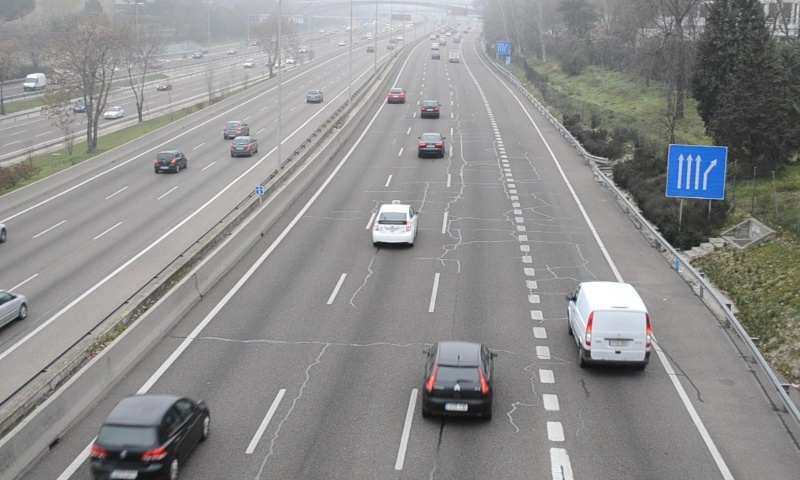car: (88, 396, 209, 480), (423, 340, 494, 417), (374, 203, 416, 244), (419, 131, 445, 156), (420, 98, 440, 118), (386, 86, 406, 104)
van: (569, 281, 652, 369)
